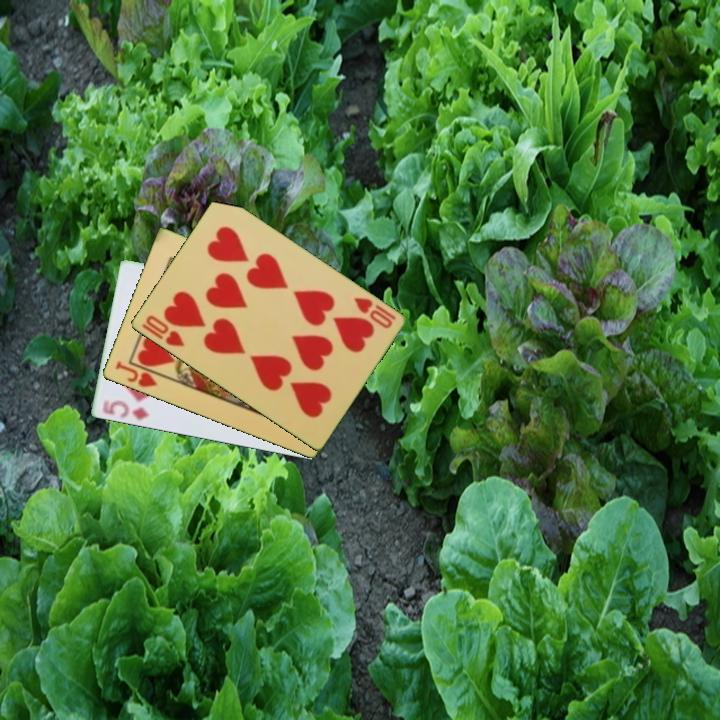10h: (138, 312, 187, 350), (350, 294, 398, 332)
5d: (98, 397, 152, 423)
Jh: (112, 357, 167, 391)
